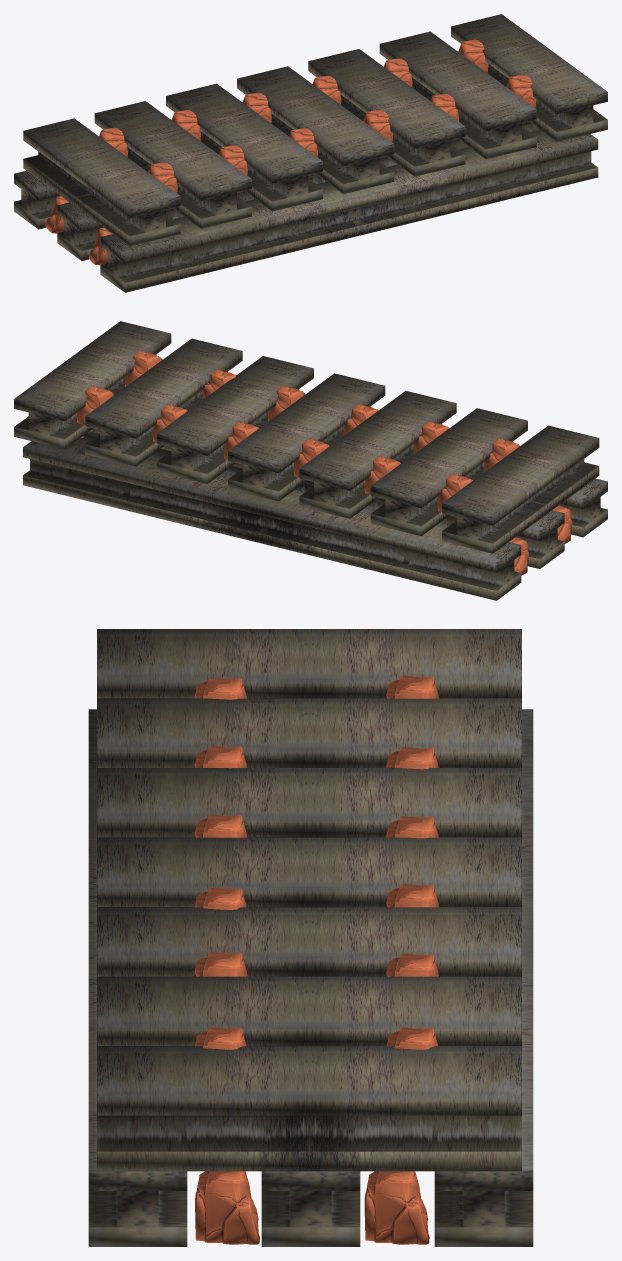
File: IronGrate.fbx
The picture shows the model from 3 angles, top to bottom: view 1: azimuth 30°, elevation 25°; view 2: azimuth 150°, elevation 25°; view 3: azimuth 270°, elevation 25°; orthographic projection. The views are drawn at different scales.
Parts seen in each view (by area): view 1: rod_6; view 2: rod_6; view 3: rod_6.
Part boxes in pixels (bbox=[...]): rod_6: bbox=[14, 14, 607, 292]; rod_6: bbox=[14, 321, 607, 600]; rod_6: bbox=[88, 629, 533, 1246].
Size of the model in its own units: 427 by 71.67 by 170.
